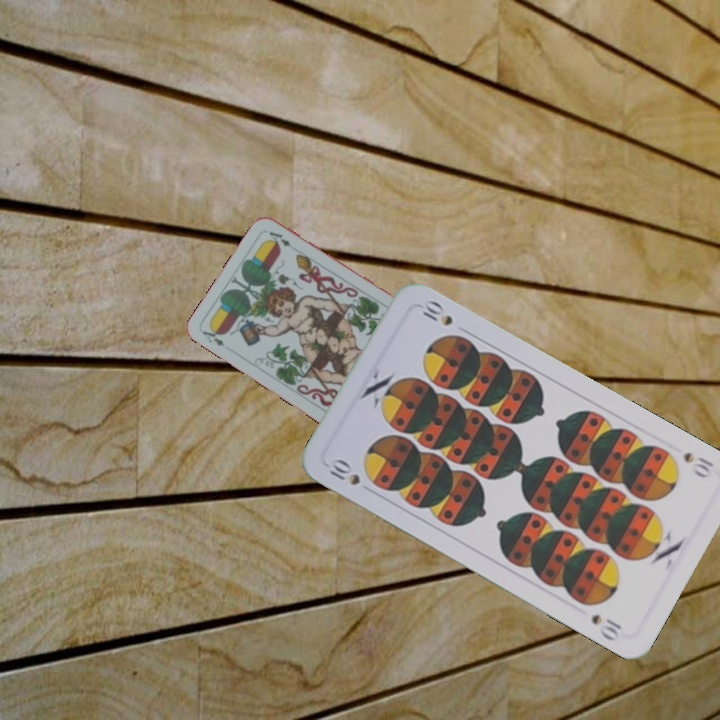EA: (198, 323, 227, 349)
S10: (679, 447, 717, 481), (324, 456, 363, 488)
